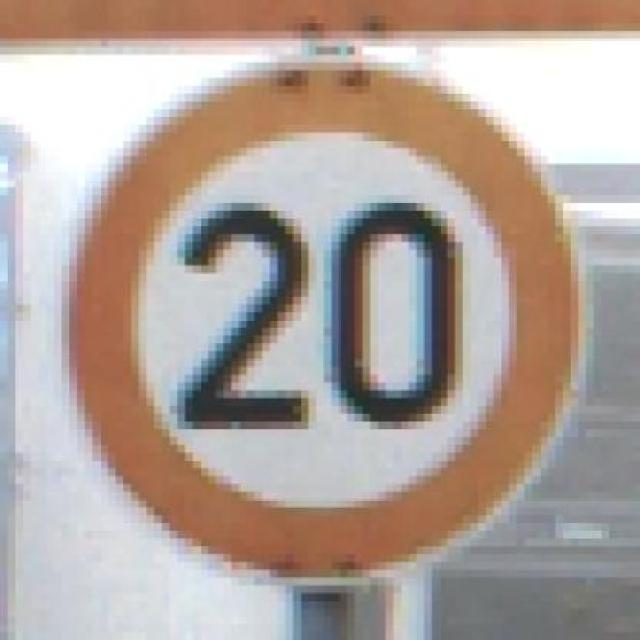Speed Limit 20 KMPh: (54, 55, 617, 593)
